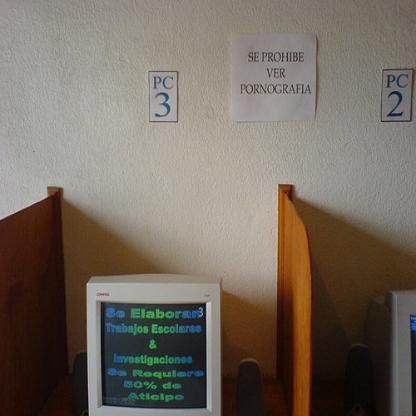tvmonitor: (83, 269, 223, 415), (363, 288, 415, 415)
